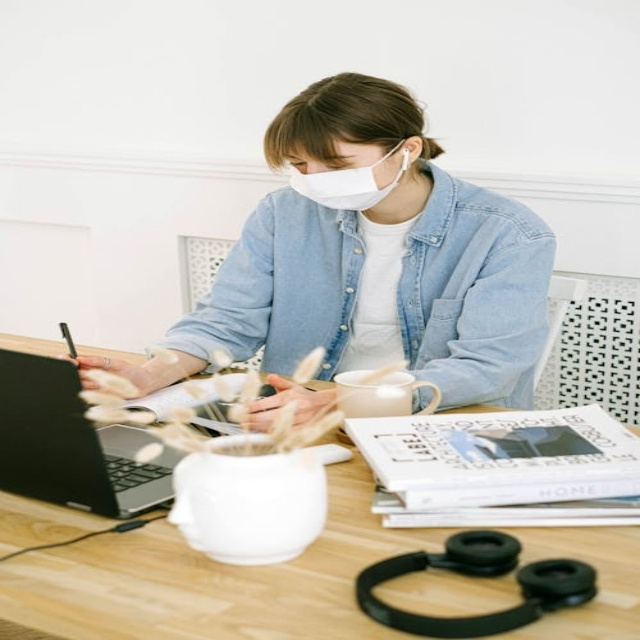Gafas: (357, 530, 602, 639)
Mascara: (286, 138, 411, 211)
Sin_gafas: (327, 162, 347, 170), (290, 160, 308, 168)
Sin_guantes: (237, 371, 340, 433), (59, 352, 169, 398)
